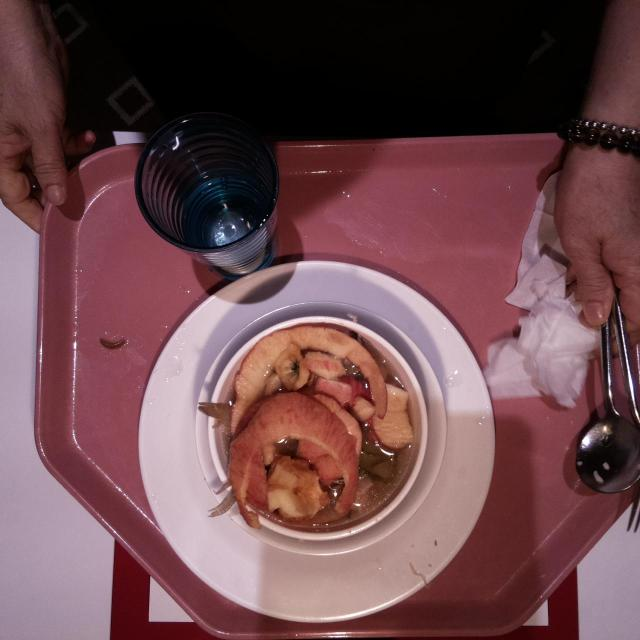Apple-peel: (226, 392, 356, 532)
